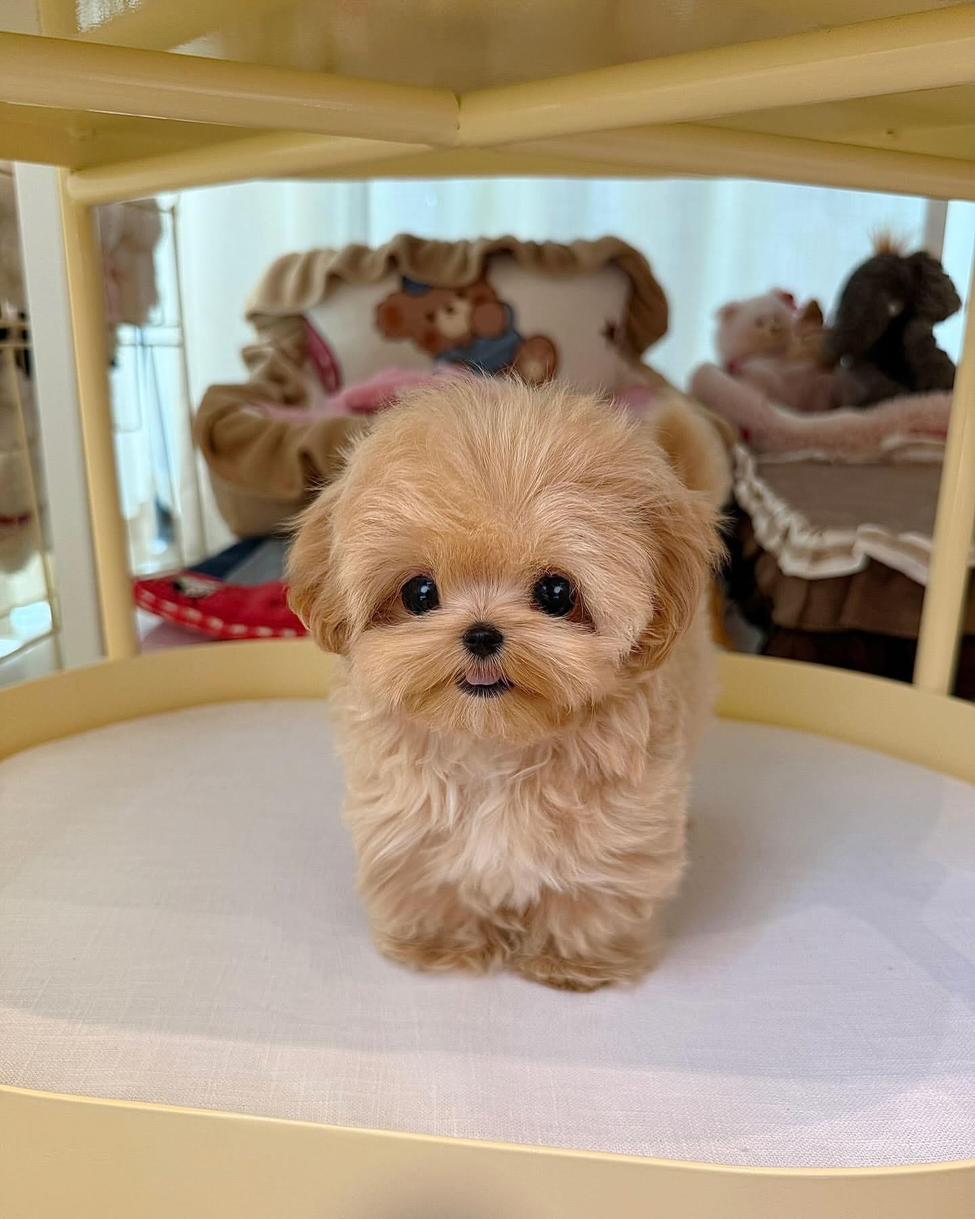non-dog: (819, 229, 966, 403), (710, 288, 878, 411)
puppy-dog: (276, 362, 737, 996)
